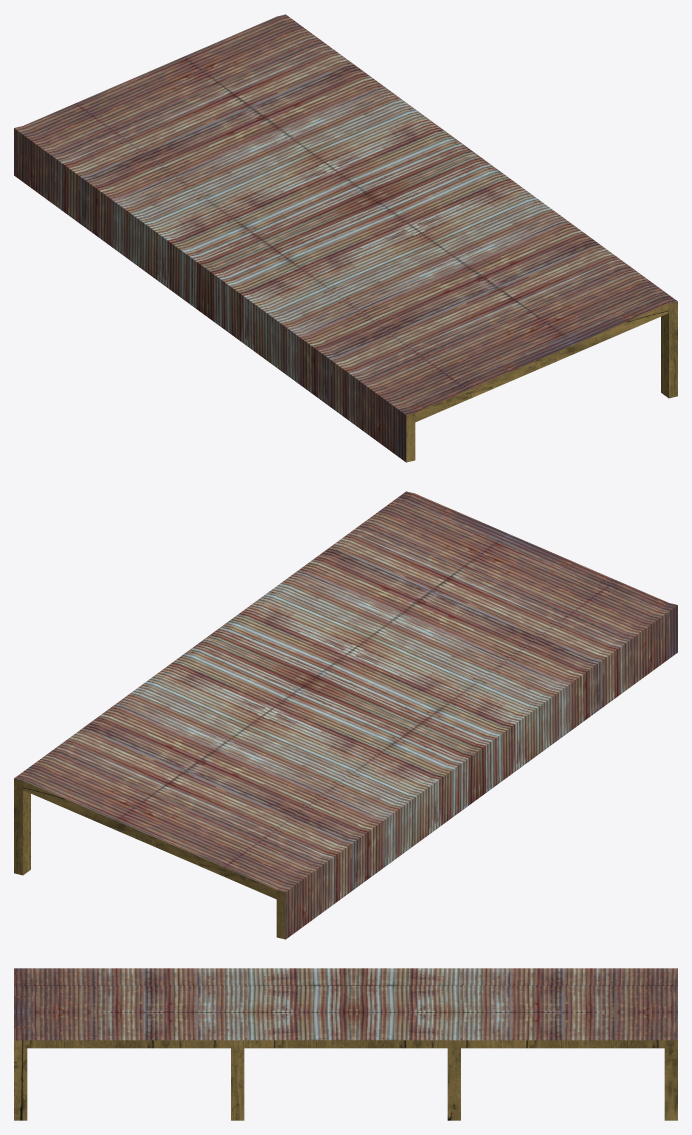
File: shelter.fbx
3 renders of one model, top to bottom at view 1: azimuth 30°, elevation 25°; view 2: azimuth 150°, elevation 25°; view 3: azimuth 270°, elevation 25°, orthographic. The views are drawn at different scales.
Parts seen in each view (by area): view 1: Cube; view 2: Cube; view 3: Cube.
Part boxes in pixels (x1,y1,x2,y2): Cube: (14,14,677,462); Cube: (14,491,677,939); Cube: (14,968,677,1120).
Bounding box in the file's own units: 60 × 20 × 150.
Materials: 1 (1 with a texture image).
